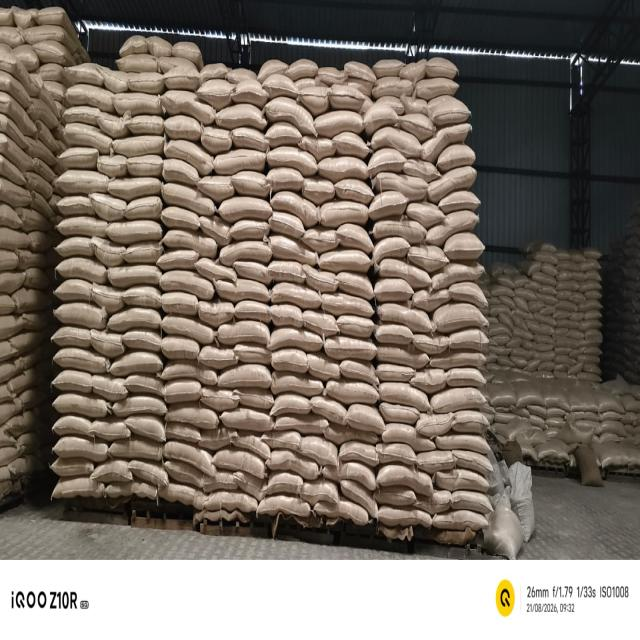Sack-2: (166, 256, 260, 286), (157, 405, 207, 461), (190, 286, 242, 335), (429, 198, 482, 245), (272, 431, 338, 467), (158, 176, 214, 218), (206, 445, 269, 480), (158, 233, 198, 287), (0, 38, 37, 96), (160, 397, 219, 432), (426, 258, 484, 292), (162, 267, 220, 301), (266, 98, 320, 134), (374, 298, 431, 332), (421, 123, 473, 160), (431, 166, 482, 202), (162, 138, 216, 172), (160, 442, 220, 472), (267, 190, 321, 222), (263, 316, 320, 346), (160, 312, 210, 346), (198, 381, 240, 421), (268, 451, 320, 483), (266, 230, 316, 263), (49, 434, 104, 464), (344, 479, 382, 522), (163, 90, 215, 121), (154, 332, 203, 364), (153, 197, 199, 231), (328, 376, 376, 408), (54, 294, 102, 326), (254, 492, 313, 518), (50, 392, 110, 417), (86, 193, 131, 226), (48, 477, 112, 500), (372, 379, 426, 406), (371, 213, 424, 240), (56, 122, 109, 149), (51, 343, 106, 369), (371, 130, 422, 158), (193, 493, 260, 514), (320, 291, 374, 317), (4, 365, 44, 400), (158, 153, 199, 187), (0, 92, 33, 133), (319, 498, 371, 524), (216, 322, 270, 347), (160, 110, 202, 142), (159, 286, 201, 318), (445, 406, 489, 436), (269, 211, 311, 242), (218, 362, 270, 387), (372, 170, 426, 194), (428, 389, 489, 410), (60, 163, 104, 192), (436, 307, 487, 332), (320, 249, 371, 274), (376, 261, 429, 285), (168, 464, 210, 494), (216, 151, 266, 176), (449, 282, 492, 311), (269, 370, 323, 393), (384, 422, 428, 450), (375, 342, 426, 366), (114, 88, 165, 112), (382, 498, 429, 524), (56, 253, 103, 279), (109, 308, 164, 330), (444, 232, 487, 260), (323, 205, 373, 229), (267, 147, 317, 171), (166, 228, 216, 252), (110, 396, 167, 417), (228, 223, 274, 249), (342, 359, 377, 393), (370, 188, 411, 217), (376, 467, 430, 489), (215, 280, 271, 301), (109, 354, 165, 375), (171, 364, 220, 388), (215, 106, 268, 128), (196, 118, 232, 150), (66, 83, 116, 106), (156, 383, 208, 405), (106, 440, 163, 460), (377, 398, 419, 425), (111, 129, 164, 150), (48, 412, 96, 435), (264, 467, 302, 496), (90, 373, 134, 398), (434, 144, 476, 170), (432, 100, 468, 130), (442, 187, 482, 214), (300, 174, 336, 204), (112, 52, 161, 74), (322, 420, 375, 440), (326, 339, 374, 361), (314, 112, 364, 133), (50, 371, 100, 392), (266, 298, 302, 327), (0, 135, 29, 171), (426, 514, 491, 530), (108, 264, 160, 284), (328, 177, 372, 200), (62, 59, 106, 82), (5, 289, 49, 312), (435, 471, 491, 489), (58, 98, 100, 122), (53, 214, 106, 233), (56, 233, 106, 253), (200, 79, 233, 109), (193, 347, 236, 370), (373, 75, 411, 101), (452, 330, 491, 355), (108, 180, 162, 198), (368, 479, 412, 501), (262, 74, 299, 100), (89, 330, 126, 356), (90, 282, 127, 308), (91, 155, 131, 179), (49, 326, 102, 344), (329, 88, 367, 113), (407, 364, 446, 388), (219, 244, 271, 262), (233, 341, 270, 366), (320, 156, 366, 176), (272, 289, 318, 309), (437, 435, 491, 452), (402, 112, 436, 139), (271, 417, 325, 434), (271, 291, 321, 309), (220, 200, 270, 218), (304, 350, 336, 378), (234, 259, 271, 283), (311, 396, 345, 422), (231, 175, 271, 197), (273, 350, 311, 373), (264, 124, 302, 147), (92, 459, 130, 482), (305, 134, 337, 161), (300, 310, 336, 334), (427, 54, 460, 80), (413, 77, 458, 96), (451, 494, 496, 513), (397, 113, 434, 136), (299, 482, 336, 505), (161, 483, 198, 506), (306, 268, 340, 293), (446, 367, 488, 387), (366, 100, 396, 128), (106, 226, 162, 241), (10, 333, 45, 357), (236, 471, 267, 498), (90, 238, 121, 265), (129, 416, 167, 438), (36, 5, 74, 27), (337, 313, 373, 336), (0, 156, 25, 189), (374, 328, 422, 345), (222, 410, 273, 426), (232, 428, 266, 452), (336, 466, 373, 488), (168, 60, 196, 89), (128, 149, 163, 172), (270, 395, 310, 415), (454, 452, 496, 471), (414, 331, 452, 352), (412, 290, 450, 311), (307, 227, 340, 251), (54, 279, 103, 295), (342, 443, 376, 466), (128, 458, 162, 481), (416, 492, 455, 512), (0, 183, 30, 209), (414, 410, 449, 432), (380, 439, 412, 463), (341, 228, 373, 252), (232, 126, 264, 150), (402, 159, 440, 179), (374, 282, 412, 302), (125, 375, 165, 394), (208, 175, 234, 204), (338, 274, 372, 296), (125, 241, 164, 260), (412, 244, 444, 267), (200, 469, 238, 488), (372, 242, 412, 260), (259, 56, 289, 80), (199, 216, 229, 240), (238, 394, 275, 413), (235, 300, 270, 320), (56, 150, 99, 166), (366, 151, 406, 168), (202, 346, 236, 366), (336, 133, 364, 157), (111, 482, 159, 496), (124, 287, 156, 308), (416, 454, 454, 471), (123, 330, 157, 349), (300, 85, 332, 105), (116, 36, 148, 56), (568, 391, 597, 413), (424, 410, 454, 431), (377, 363, 419, 378), (130, 111, 165, 129), (528, 267, 558, 288), (125, 198, 162, 215), (515, 384, 542, 407), (100, 108, 128, 130), (593, 396, 627, 414), (409, 201, 438, 222), (267, 171, 305, 187), (350, 406, 380, 426), (236, 81, 266, 101), (21, 266, 46, 290), (17, 317, 47, 337), (598, 417, 628, 437), (41, 76, 64, 102), (0, 313, 23, 339), (414, 452, 451, 468), (26, 28, 68, 42), (53, 200, 94, 214), (48, 468, 94, 480), (544, 388, 569, 410), (92, 421, 128, 436), (199, 59, 227, 78), (126, 71, 164, 85), (255, 508, 308, 518), (148, 33, 172, 55), (434, 354, 486, 364), (376, 55, 402, 75), (0, 226, 26, 246), (289, 60, 319, 77), (350, 60, 375, 80), (38, 60, 63, 80), (37, 44, 64, 62), (488, 388, 516, 405), (0, 357, 19, 382), (0, 271, 26, 289), (107, 69, 129, 90), (227, 66, 257, 81), (0, 376, 14, 408), (532, 309, 555, 328), (267, 266, 305, 277), (173, 40, 202, 54), (488, 322, 513, 338), (511, 295, 532, 314), (523, 412, 545, 430), (490, 284, 518, 298), (502, 335, 528, 350), (456, 121, 472, 145), (488, 302, 512, 318), (537, 290, 558, 308), (0, 288, 16, 311), (0, 249, 19, 268), (0, 442, 15, 466), (0, 342, 18, 361), (405, 57, 426, 73), (525, 316, 541, 337), (576, 418, 600, 432), (510, 312, 528, 330), (621, 395, 640, 412), (514, 287, 537, 301), (494, 410, 517, 424), (524, 298, 545, 313), (537, 283, 558, 298), (530, 333, 554, 345), (558, 298, 576, 314), (578, 280, 602, 292), (581, 298, 604, 310), (524, 258, 541, 274), (0, 206, 18, 221), (536, 322, 554, 337), (499, 295, 517, 310), (619, 411, 638, 425), (553, 354, 574, 366), (160, 58, 187, 67), (556, 339, 578, 350), (510, 356, 530, 368), (499, 312, 514, 328), (625, 385, 640, 401), (556, 282, 580, 292), (498, 354, 515, 368), (321, 74, 347, 83), (514, 326, 532, 339), (580, 373, 601, 384), (492, 333, 511, 345), (542, 264, 558, 278), (584, 289, 604, 300), (556, 319, 577, 329), (552, 325, 569, 337), (553, 309, 570, 321), (535, 350, 555, 360), (540, 240, 556, 252), (498, 276, 514, 288), (510, 275, 527, 286), (567, 329, 584, 340), (525, 279, 540, 291), (554, 347, 572, 357), (536, 362, 556, 371), (584, 248, 602, 258), (568, 310, 584, 321), (535, 343, 554, 352), (570, 250, 584, 262), (570, 270, 584, 282), (581, 321, 602, 328), (524, 361, 540, 370), (554, 362, 568, 372), (558, 270, 572, 280), (583, 260, 600, 268), (586, 332, 602, 340), (586, 347, 602, 355), (557, 251, 569, 261), (485, 354, 498, 363), (586, 250, 600, 258), (586, 312, 600, 320), (586, 357, 602, 364), (558, 293, 572, 301), (586, 270, 598, 278), (574, 291, 582, 303), (582, 282, 600, 287), (586, 291, 601, 297), (571, 366, 582, 374), (581, 305, 602, 309), (584, 310, 600, 315), (586, 364, 598, 370)
